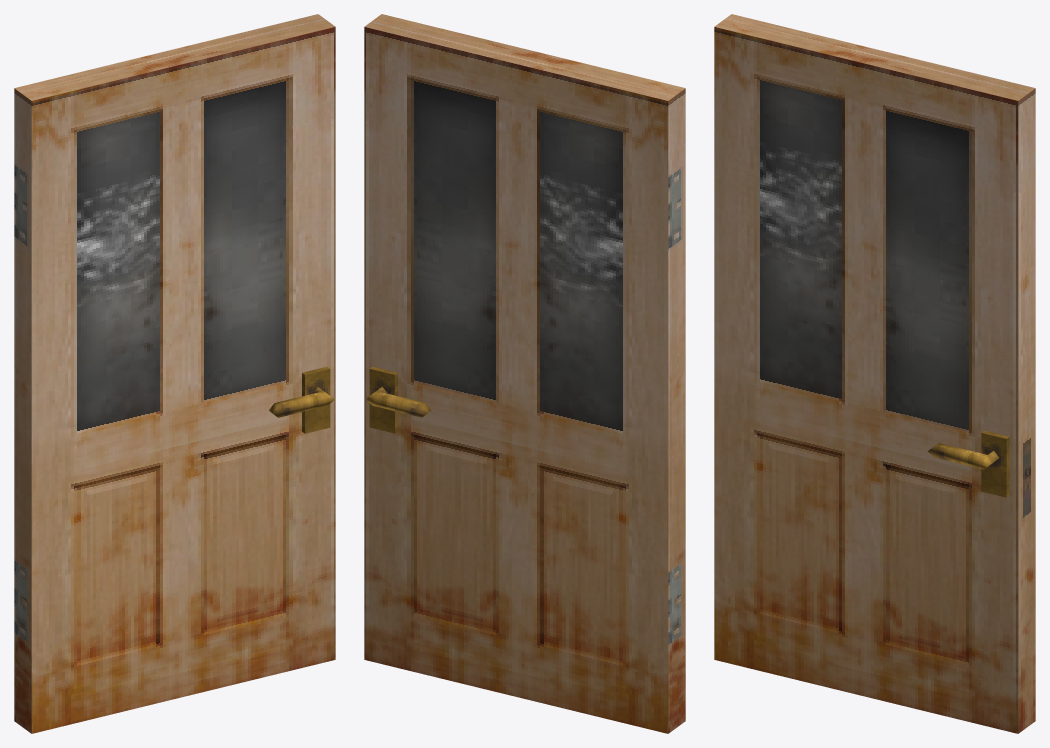
Rendered from door_004.glb.
The picture shows the model from 3 angles, left to right: view 1: azimuth 30°, elevation 25°; view 2: azimuth 150°, elevation 25°; view 3: azimuth 330°, elevation 25°; orthographic projection.
Parts seen in each view (by area): view 1: Door06; view 2: Door06; view 3: Door06.
Part boxes in pixels (x1,y1,x2,y2): Door06: (14,14,335,733); Door06: (364,14,685,733); Door06: (714,14,1035,733).
Bounding box in the file's own units: 1 × 1.99 × 0.2643.
2 materials, 2 textured.
